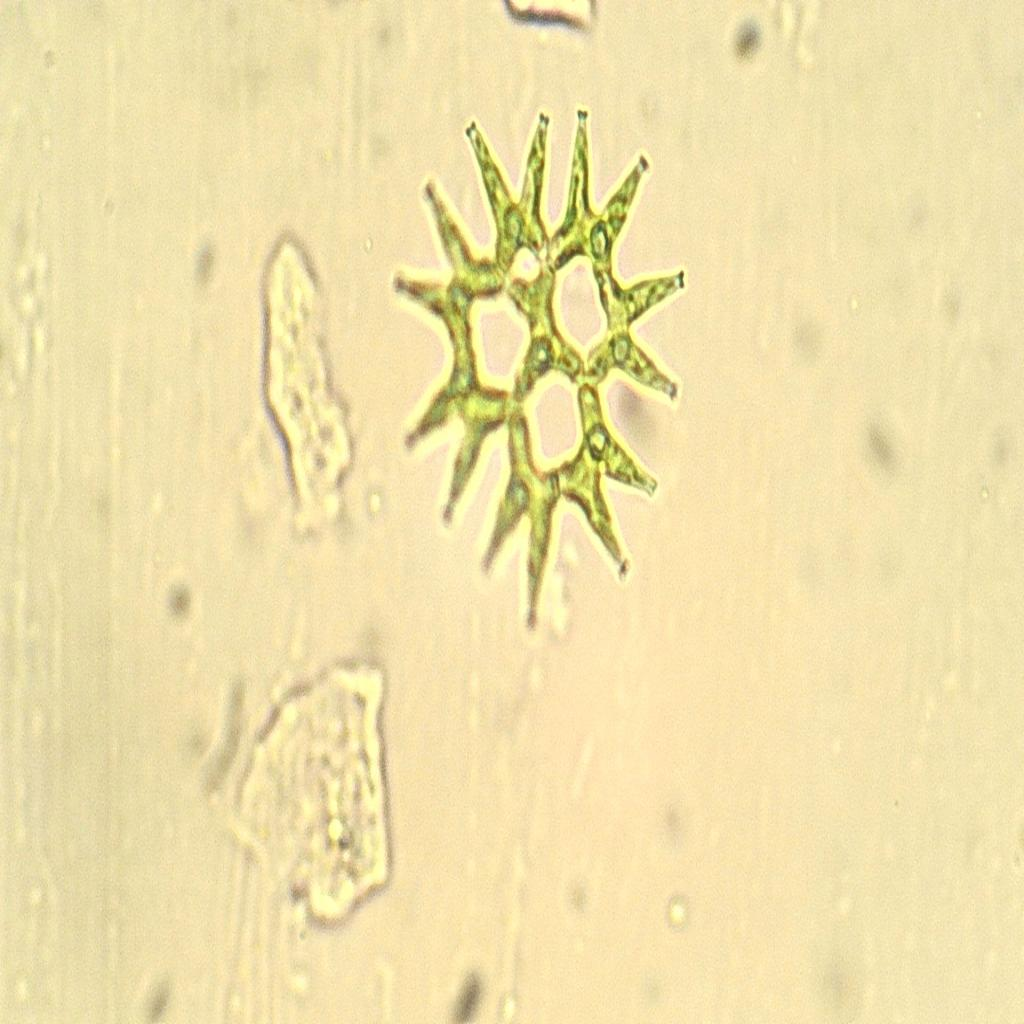Pediastrum_75T: (380, 77, 696, 651)
